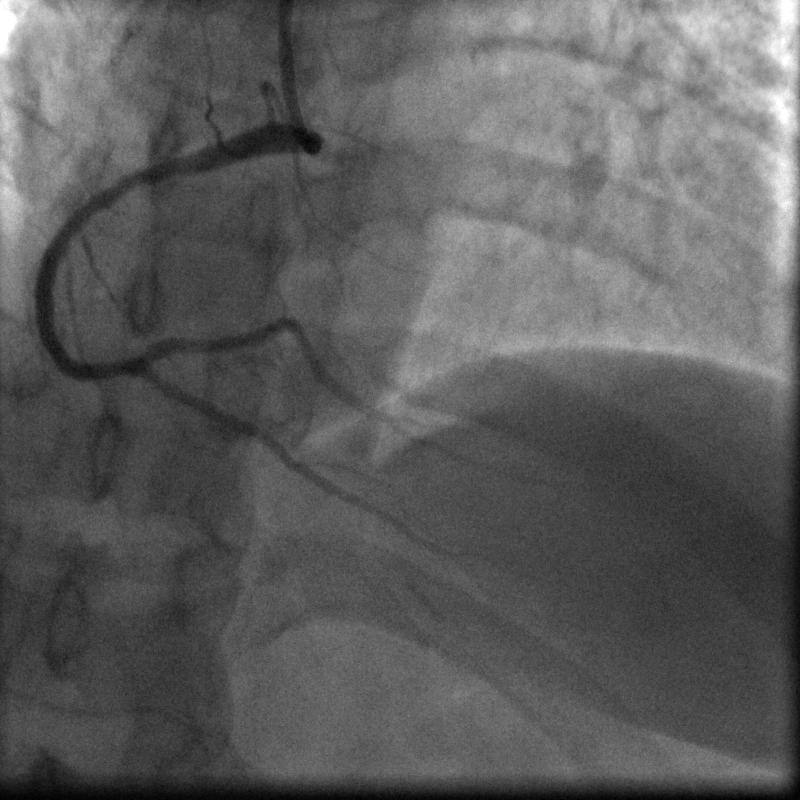Stenosis: (97, 355, 138, 383)
